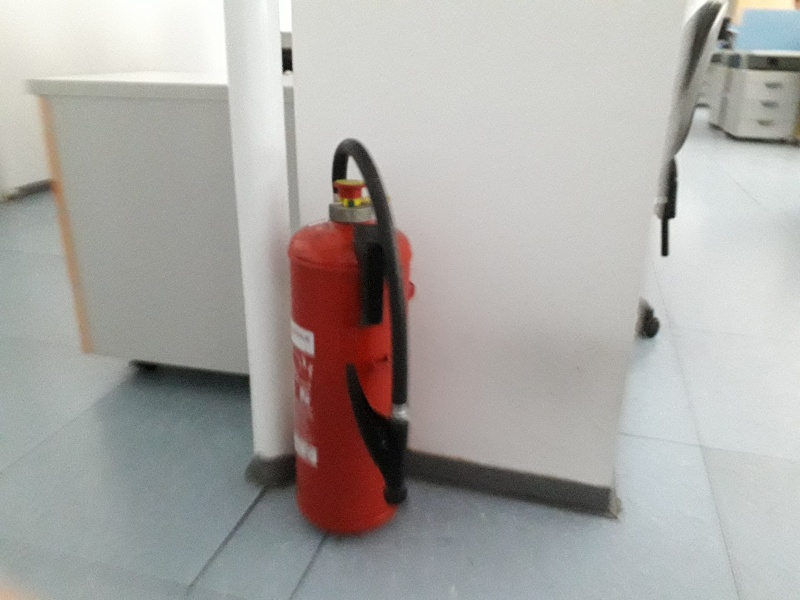vataparat: (286, 139, 410, 535)
